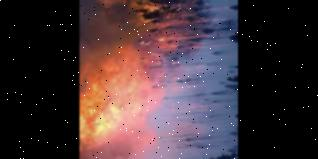fire: (91, 0, 221, 49)
